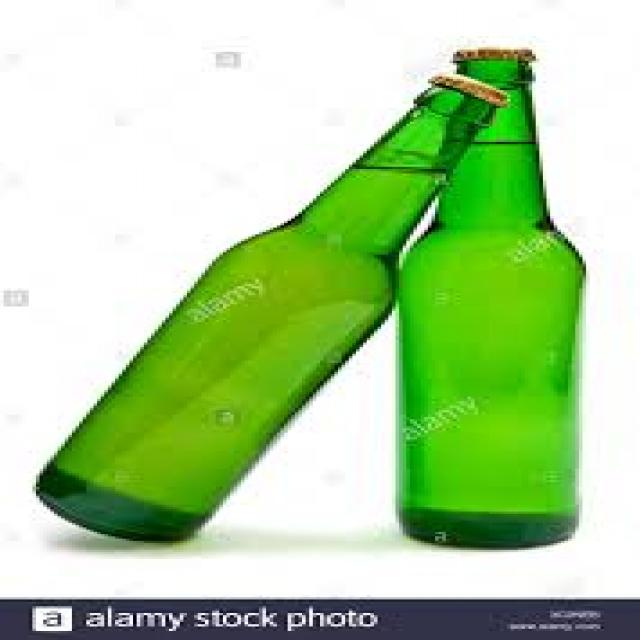Glass: (22, 66, 520, 548), (392, 46, 586, 548)
